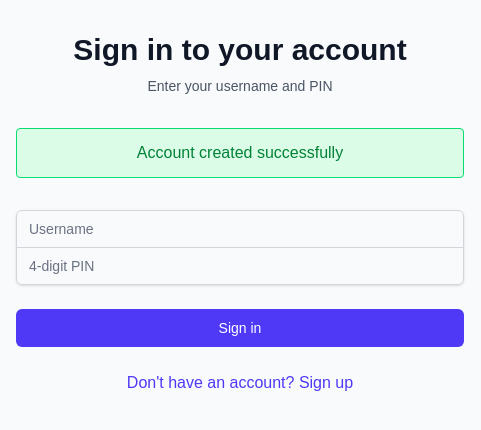
Test: SignInPage › should handle network errors
The width and height of the screenshot is (481, 430).
Type "testuser" into the field with placeholder "Username" at [240, 228], box [16,210,464,248]
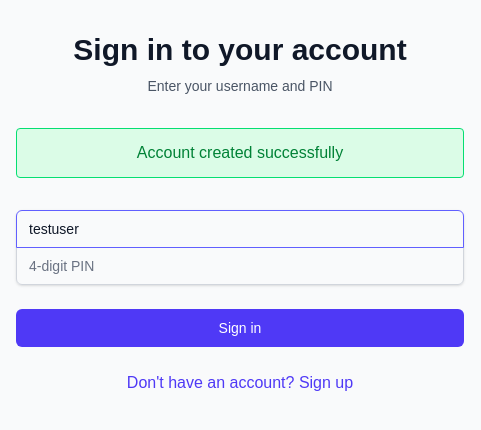
Type "1234" into the password field with placeholder "4-digit PIN" at [240, 266], box [16,246,464,284]
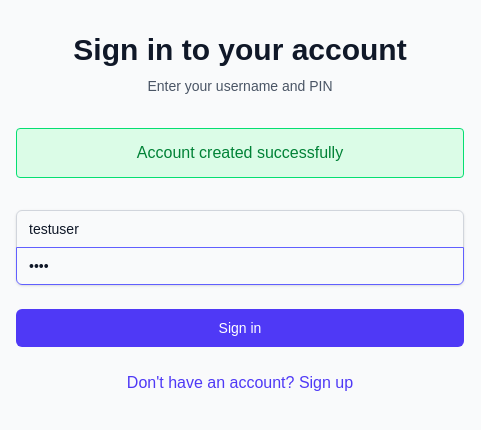
Click the button "Sign in" at [240, 328], box [16,308,464,346]
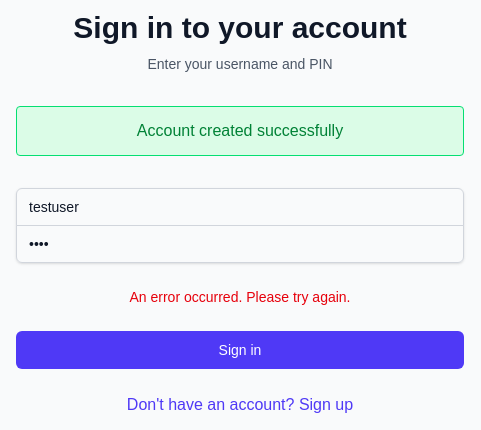
Result: the text "An error occurred. Please try again." is shown at [130,288,350,304]
